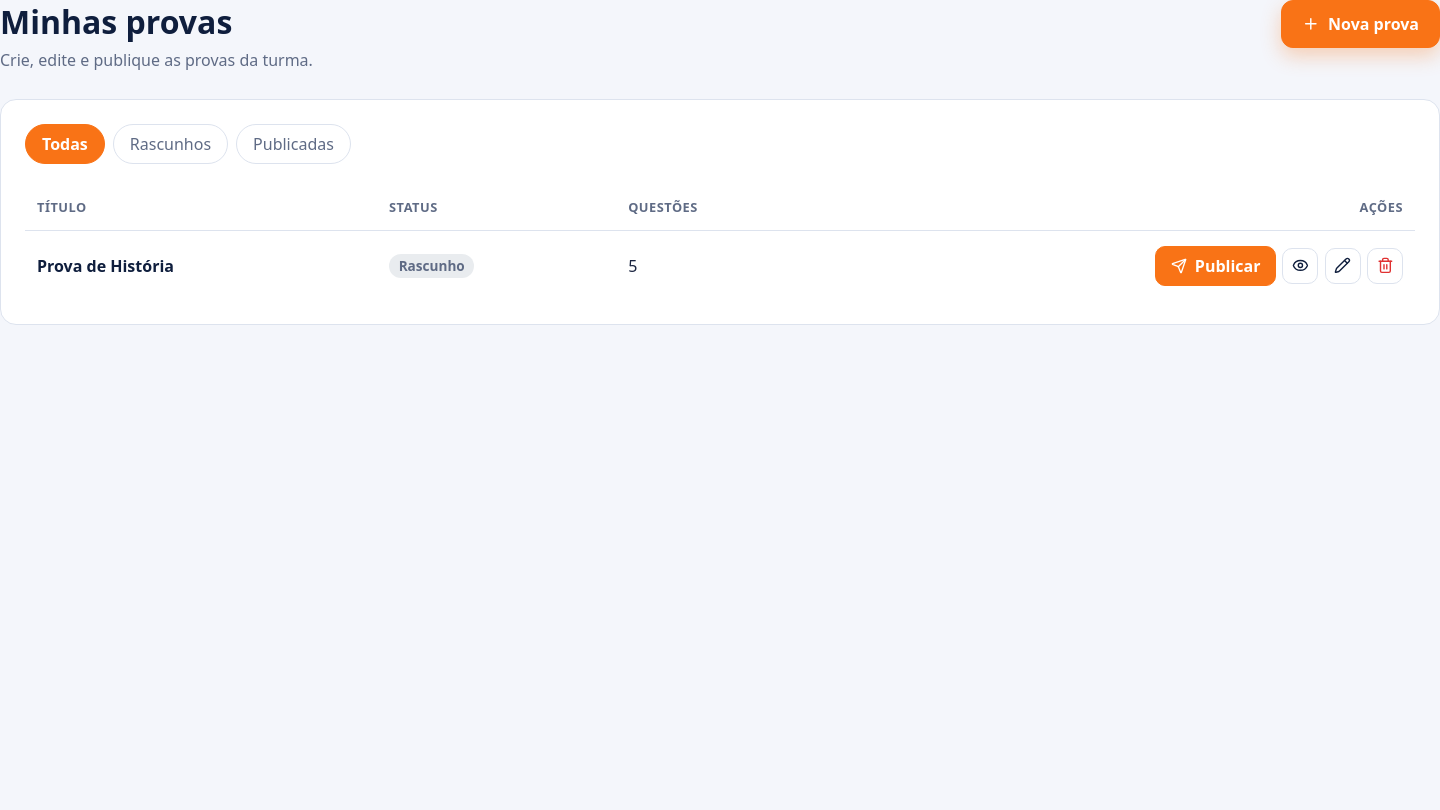
Test: ExamListView › shows the API error when publishing fails
Click the button "Publicar".
click(1216, 266)  # box [1155,246,1276,286]
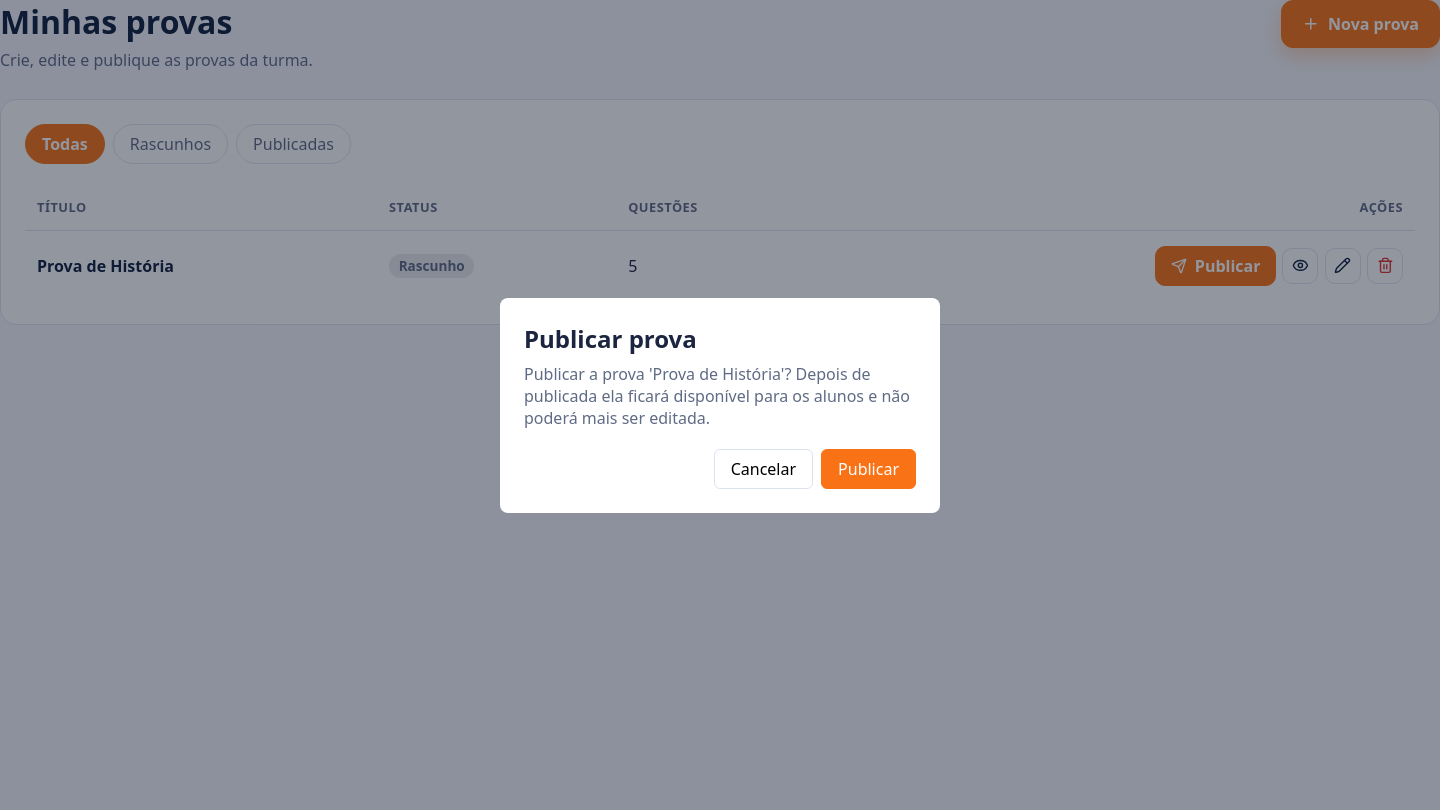
Click the button with class "dialog__confirm".
click(869, 468)  # box [821,448,916,488]
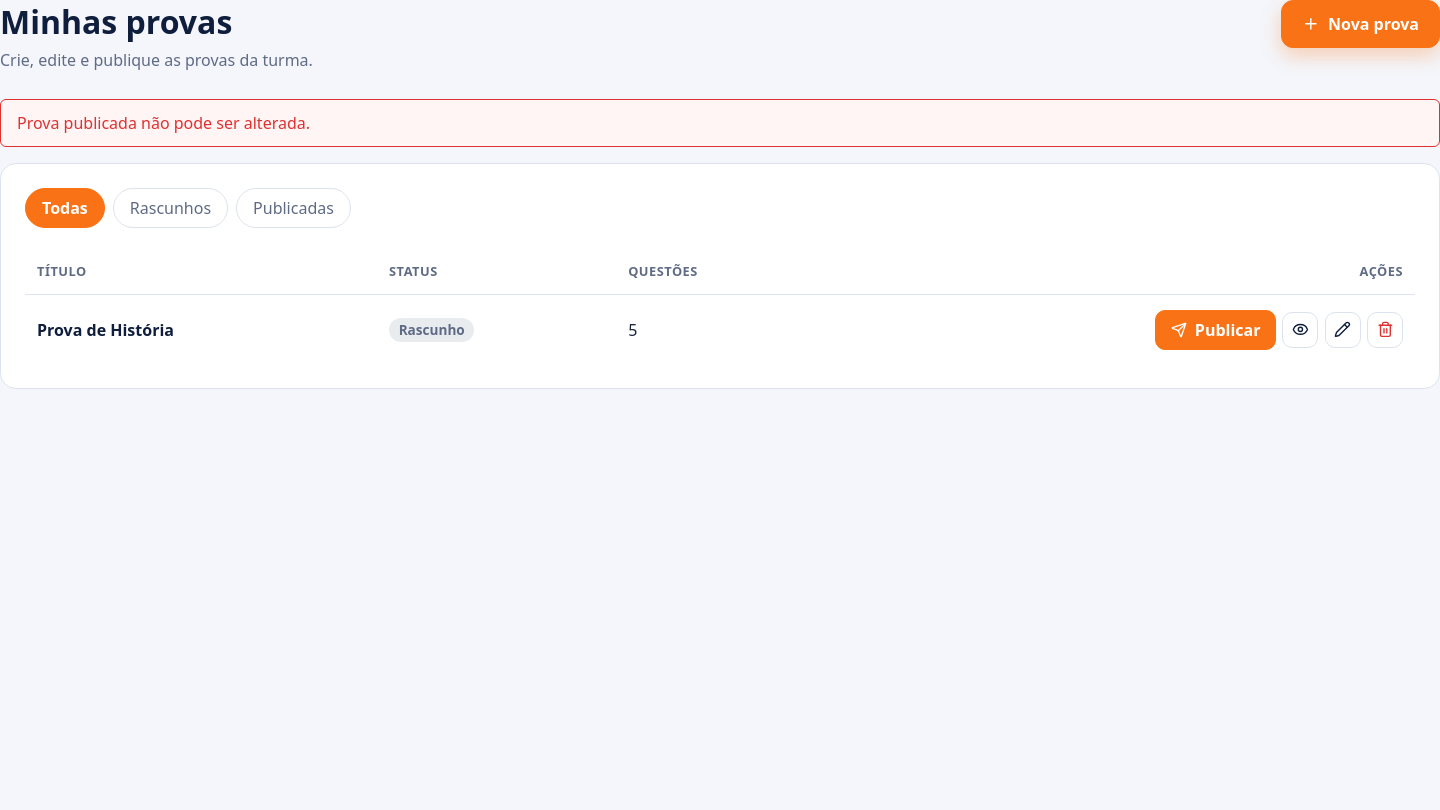
Result: the text "Prova publicada não pode ser alterada." is shown at [0,99,1439,147]
